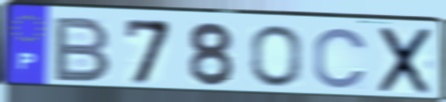7: (123, 17, 173, 86)
8: (186, 20, 237, 88)
B: (50, 15, 114, 84)
C: (311, 25, 371, 91)
O: (248, 23, 305, 89)
X: (376, 25, 435, 96)
